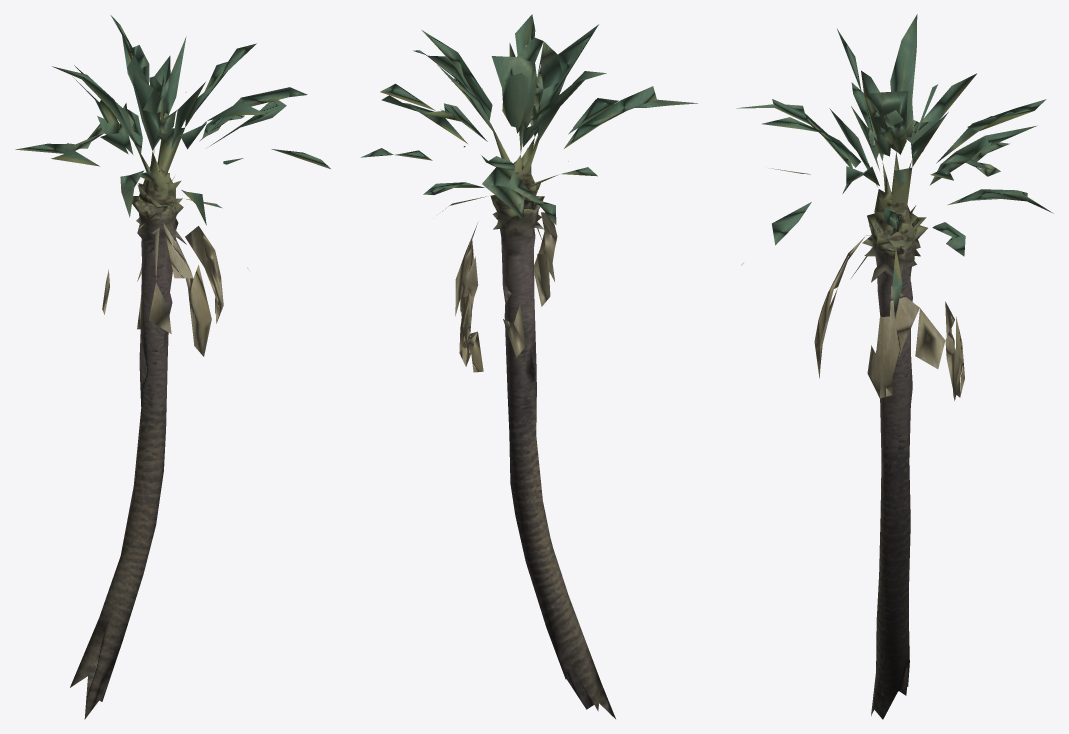
The model's file is desert-tree-1.glb.
3 views of the same model, side by side, from view 1: azimuth 30°, elevation 25°; view 2: azimuth 150°, elevation 25°; view 3: azimuth 270°, elevation 25° (orthographic). The views are drawn at different scales.
Visible parts, largest first — view 1: geometry_0.001; view 2: geometry_0.001; view 3: geometry_0.001.
Boxes of the visible parts, x1,y1,x2,y2 form: geometry_0.001: (15,15,330,719); geometry_0.001: (361,14,697,718); geometry_0.001: (736,14,1053,719).
Bounding box in the file's own units: 0.3486 × 0.9341 × 0.3918.
1 material, 1 textured.
